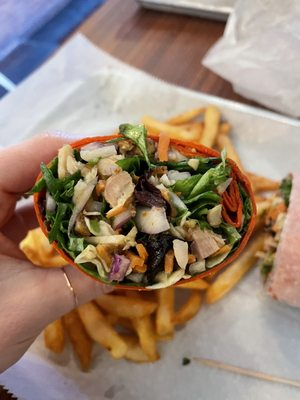soup: (264, 173, 300, 310)
